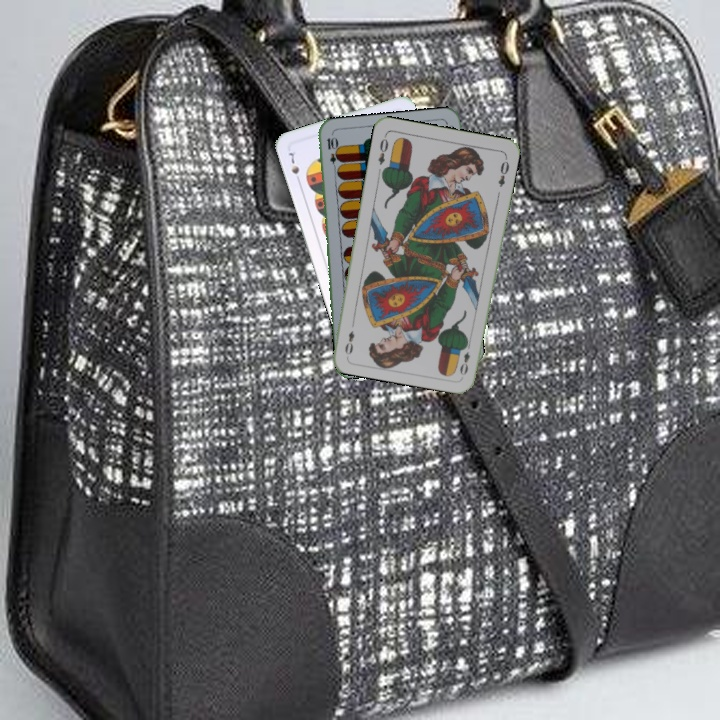E10: (323, 133, 340, 174)
EO: (456, 338, 473, 378), (374, 131, 391, 167)
S7: (284, 146, 303, 186)
